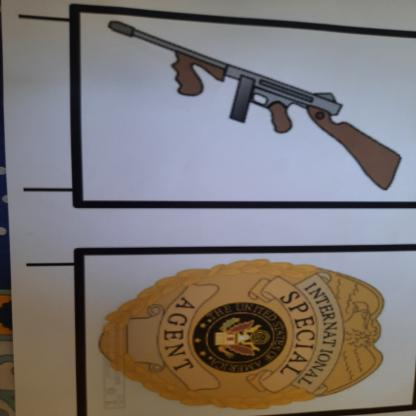Bootlegger: (107, 13, 416, 208)
G-man: (85, 254, 416, 416)
